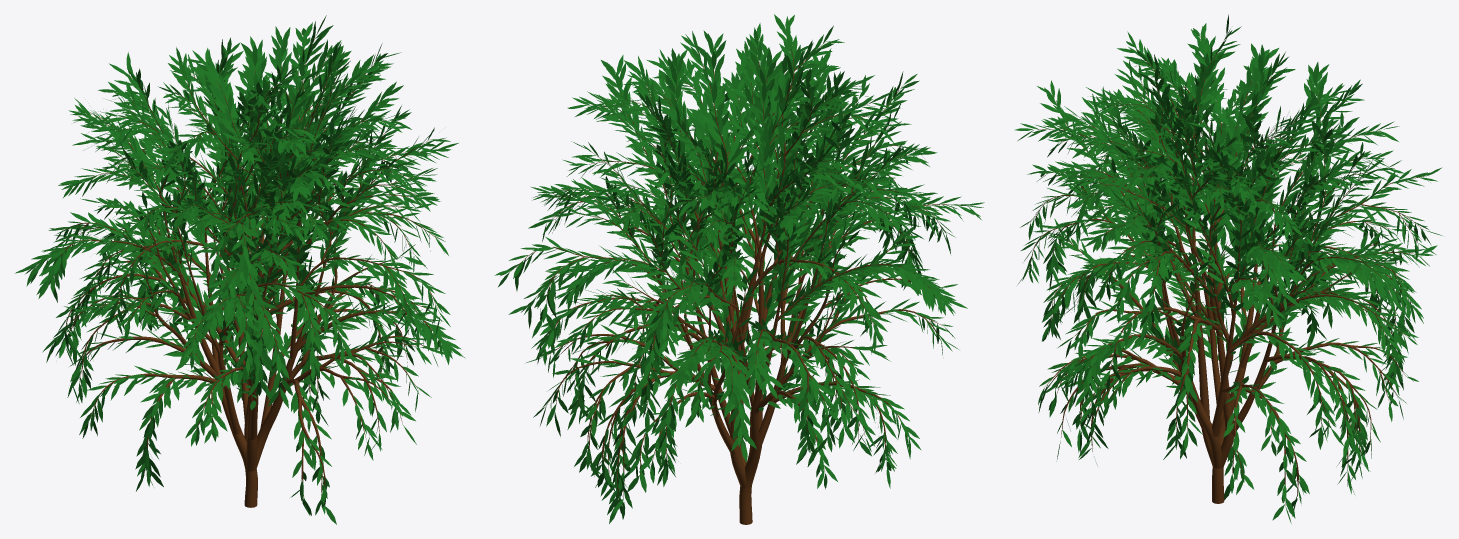
Rendered from Tree_06.fbx.
3 views of the same model, side by side, from view 1: azimuth 30°, elevation 25°; view 2: azimuth 150°, elevation 25°; view 3: azimuth 270°, elevation 25° (orthographic). The views are drawn at different scales.
Visible parts, largest first — view 1: leaves, tree; view 2: leaves, tree; view 3: leaves, tree.
Boxes of the visible parts, x1,y1,x2,y2 form: leaves: (15,15,465,524); tree: (44,37,440,507); leaves: (494,14,984,523); tree: (510,42,968,524); leaves: (1015,14,1442,523); tree: (1028,36,1425,504).
Bounding box in the file's own units: 752 × 817 × 701.
